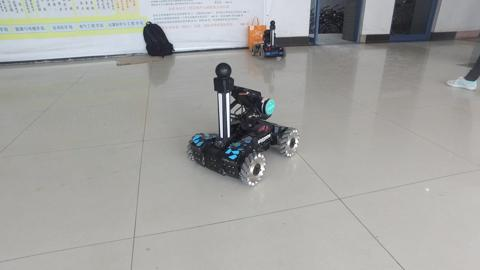bag: (140, 19, 178, 59), (245, 14, 270, 51)
chariot: (185, 61, 300, 188), (248, 18, 287, 59)
